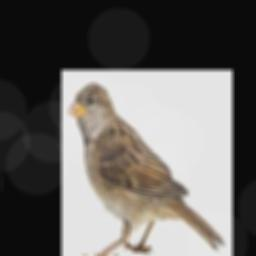Sparrow: (68, 82, 225, 256)
